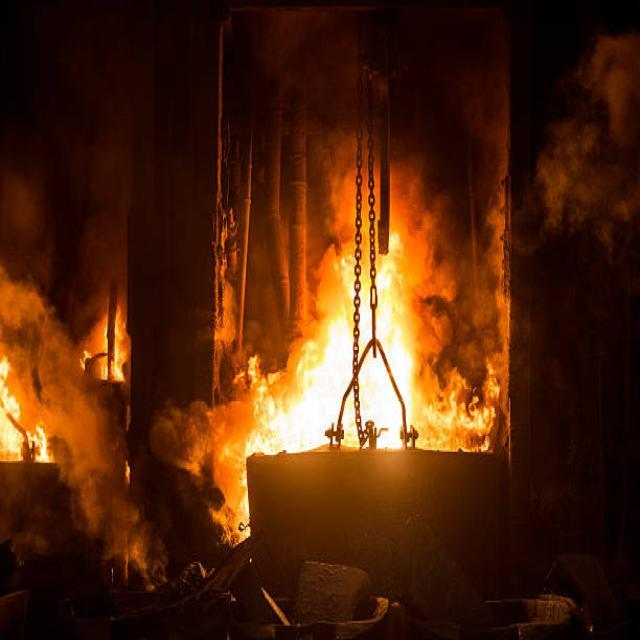Fire: (245, 230, 420, 462), (0, 360, 50, 466), (87, 316, 129, 388)
